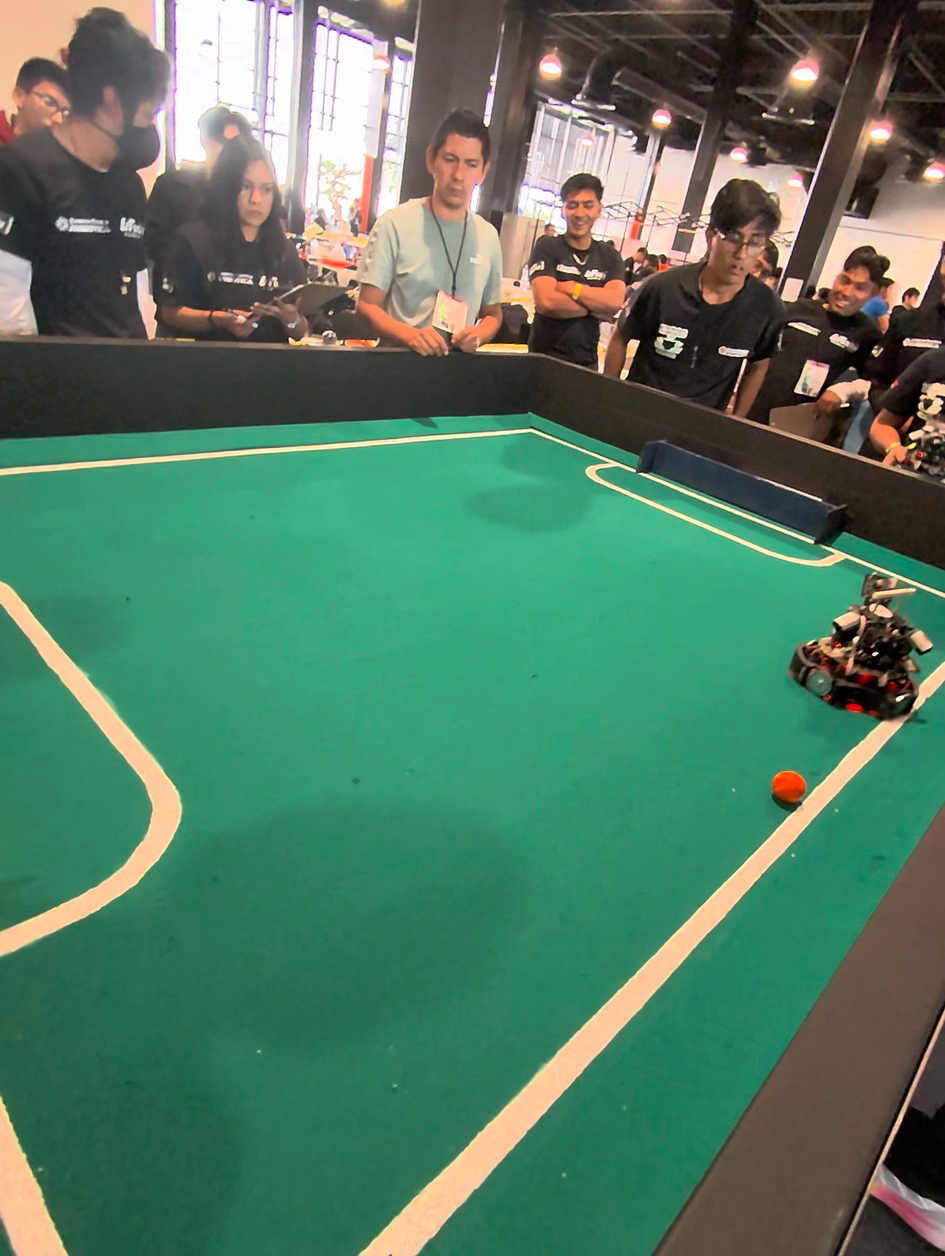Robot: (785, 572, 931, 724)
pelota: (771, 771, 806, 804)
